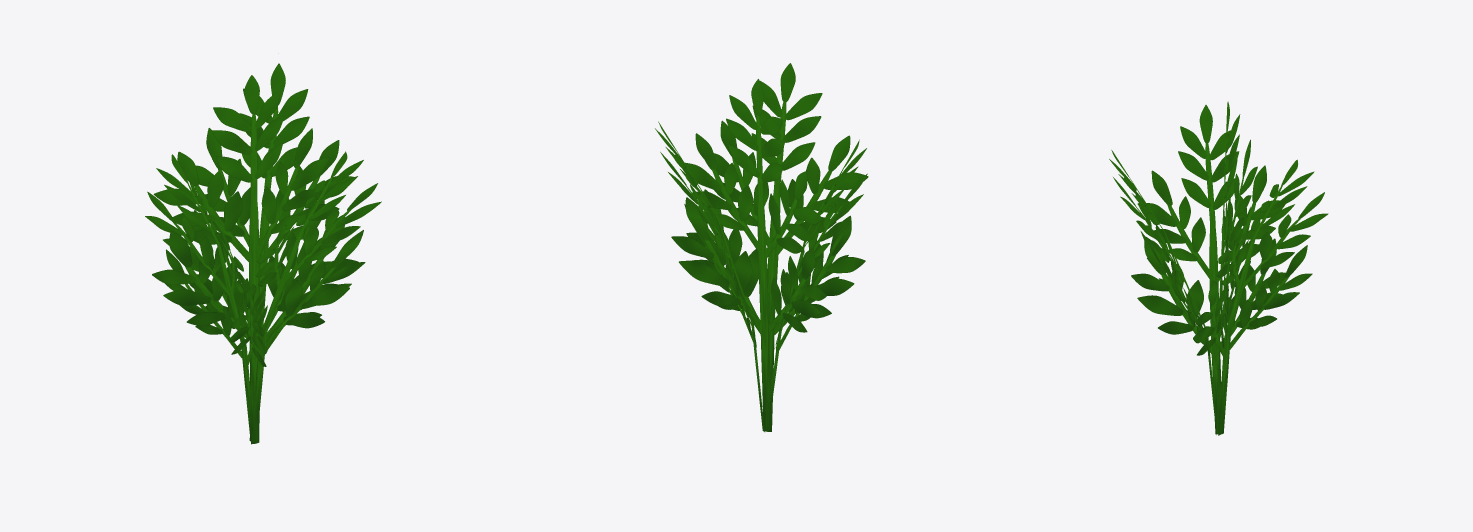
The model's file is CarrotPlant02.fbx.
3 renders of one model, left to right at view 1: azimuth 30°, elevation 25°; view 2: azimuth 150°, elevation 25°; view 3: azimuth 270°, elevation 25°, orthographic. The views are drawn at different scales.
Parts seen in each view (by area): view 1: CarrotPlant02_LOD0; view 2: CarrotPlant02_LOD0; view 3: CarrotPlant02_LOD0.
Part boxes in pixels (<box>): CarrotPlant02_LOD0: <box>145,63,381,444</box>; CarrotPlant02_LOD0: <box>655,63,868,431</box>; CarrotPlant02_LOD0: <box>1109,101,1328,435</box>.
Size of what is drawn, in the model's own units: 55.21 by 48.93 by 57.36.
